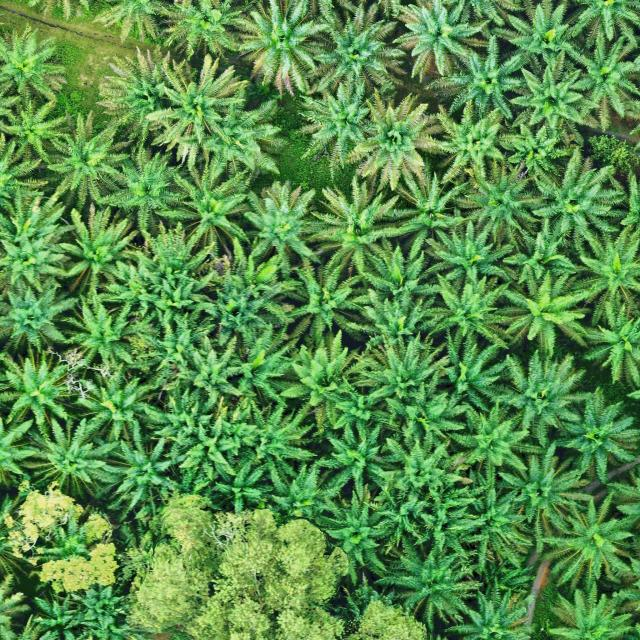Tree: (128, 491, 354, 640), (0, 482, 119, 597), (186, 241, 306, 348), (143, 53, 250, 168), (346, 82, 452, 190), (372, 536, 489, 631), (307, 0, 412, 103), (526, 144, 629, 246), (304, 176, 408, 276), (157, 154, 253, 262), (424, 34, 534, 126), (541, 494, 640, 595), (228, 0, 330, 95), (504, 44, 600, 143), (92, 136, 190, 232), (351, 330, 450, 424), (452, 151, 548, 247), (381, 0, 490, 84), (46, 105, 134, 209), (496, 352, 590, 449), (205, 314, 302, 408), (280, 325, 365, 432), (66, 360, 168, 448), (290, 76, 376, 180), (314, 484, 399, 584), (369, 430, 475, 510), (388, 158, 470, 260), (239, 171, 326, 267), (0, 183, 75, 293), (496, 450, 594, 534), (20, 413, 114, 500), (125, 242, 220, 328), (564, 25, 640, 132), (414, 268, 508, 354), (497, 273, 592, 357), (560, 387, 640, 486), (446, 397, 530, 491), (196, 96, 288, 181), (351, 265, 435, 356), (54, 207, 140, 295), (233, 400, 322, 485), (567, 289, 640, 392), (489, 0, 583, 78), (99, 426, 178, 518), (164, 329, 250, 413), (387, 483, 494, 550), (289, 258, 369, 346), (422, 214, 516, 287), (433, 97, 508, 187), (468, 475, 533, 576), (375, 377, 466, 449), (431, 330, 510, 412), (0, 344, 73, 430), (0, 21, 74, 105), (134, 302, 218, 376), (321, 409, 397, 489), (142, 388, 224, 460), (572, 218, 640, 304), (497, 224, 588, 288), (0, 283, 81, 354), (60, 298, 138, 371), (441, 584, 538, 640), (267, 461, 347, 525), (543, 586, 637, 640), (0, 96, 69, 162), (500, 120, 574, 175), (468, 558, 540, 604)
